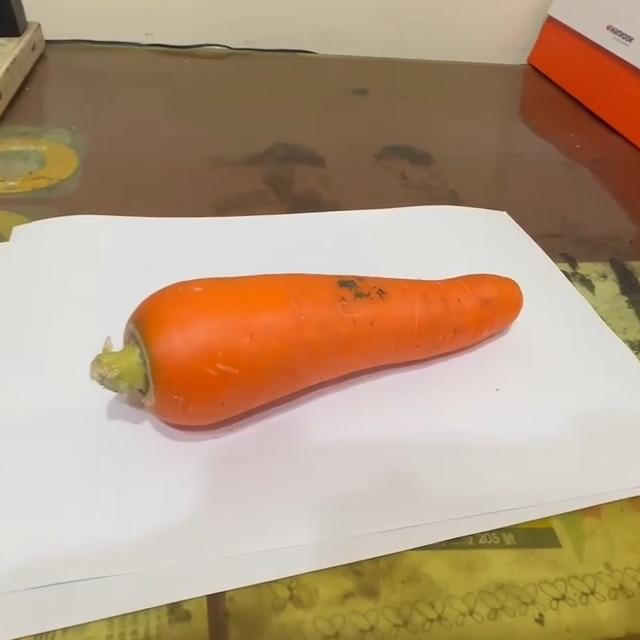carrot: (86, 268, 530, 430)
